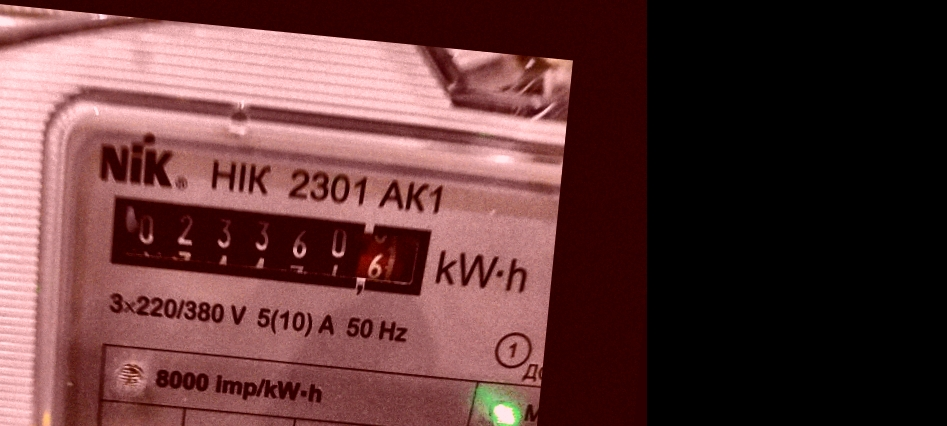0: (325, 223, 351, 260), (133, 208, 158, 245)
2: (173, 210, 197, 247)
3: (212, 214, 235, 251), (251, 217, 272, 253)
6: (287, 224, 311, 259), (364, 246, 385, 281)
screen: (92, 182, 451, 315)
